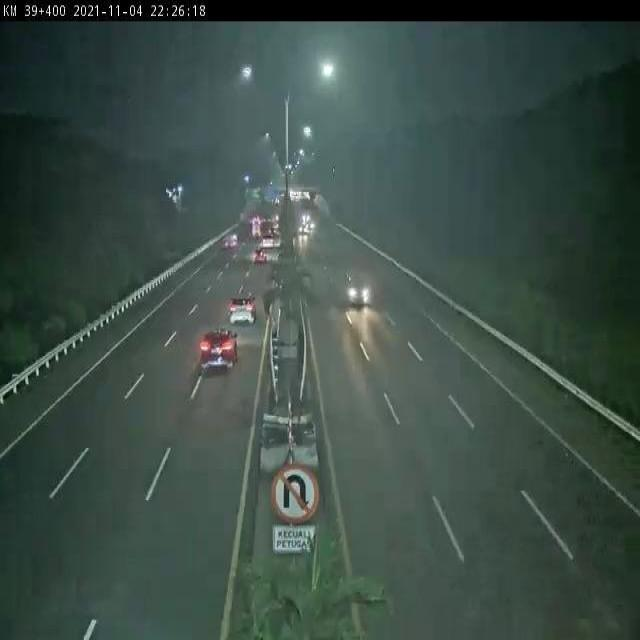car: (198, 325, 240, 380), (228, 282, 259, 334), (342, 268, 376, 315)
